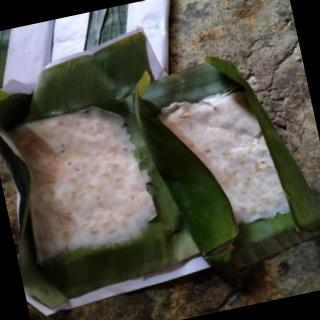Tempe: (4, 97, 163, 264)
